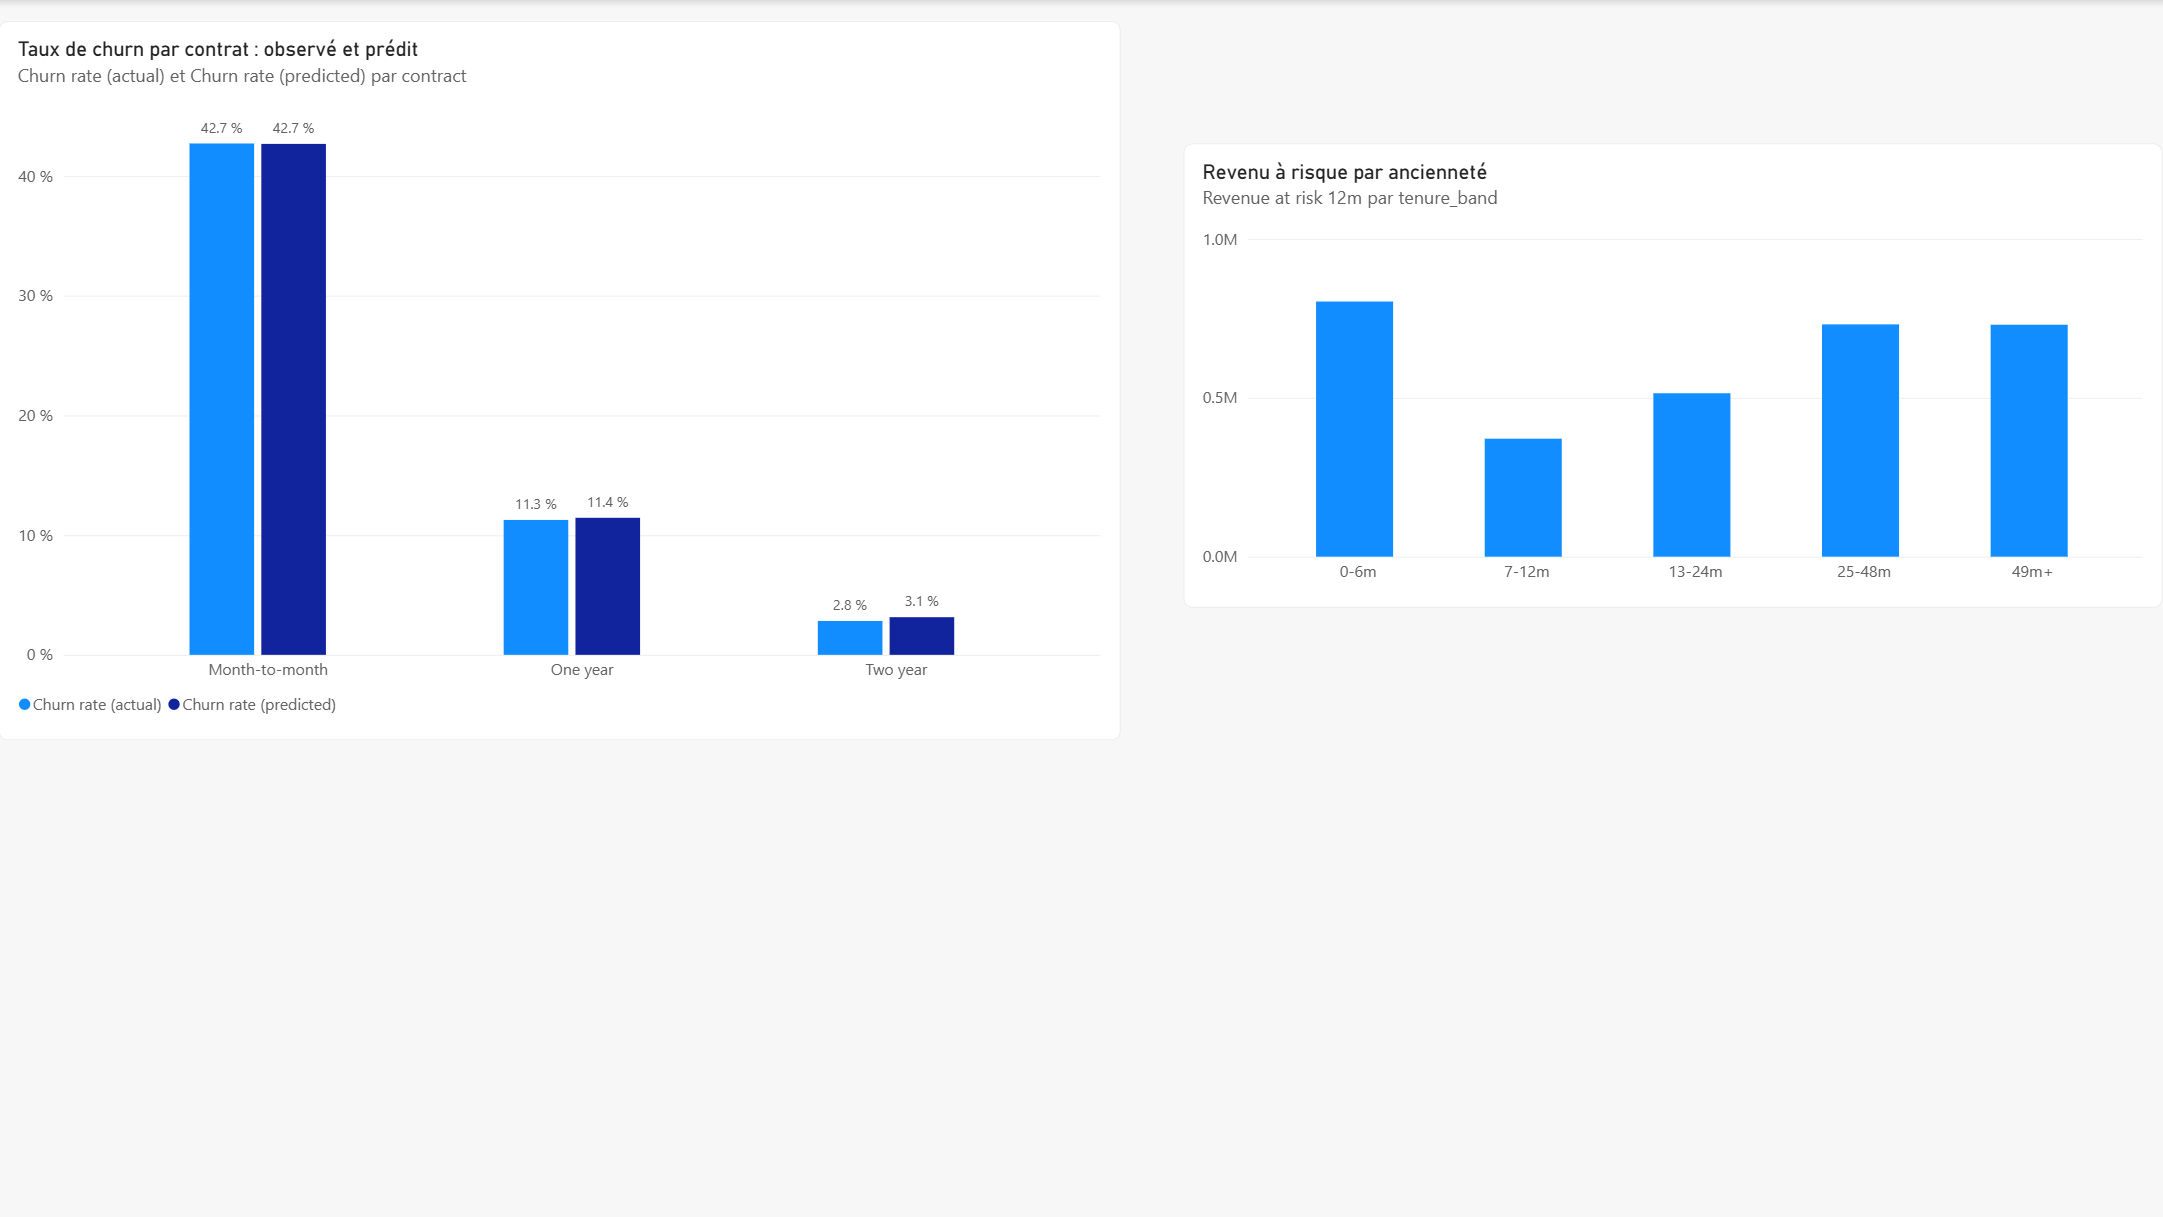

Layout of this report page (visuals, bound fields, positions):
{"tool":"powerbi","page":{"name":"Segments","canvas":[1920,1080],"ordinal":1},"visuals":[{"type":"clusteredColumnChart","title":"Taux de churn par contrat : observé et prédit","fields":{"Category":["v_customer_risk.contract"],"Y":["v_customer_risk.Churn rate (actual)","v_customer_risk.Churn rate (predicted)"]},"box":[0,18.5,995.2,638],"z":0},{"type":"columnChart","title":"Revenu à risque par ancienneté","fields":{"Category":["v_customer_risk.tenure_band"],"Y":["v_customer_risk.Revenue at risk 12m"]},"box":[1051.3,127.4,868.4,412.2],"z":1}]}

Visuals, with their boxes in screenshot pixels (x1, y1, x2, y2), scaled from the page's 1920x1080 canvas onto the 2163x1217 screenshot:
"Taux de churn par contrat : observé et prédit" clusteredColumnChart: (x1=0, y1=21, x2=1121, y2=740)
"Revenu à risque par ancienneté" columnChart: (x1=1184, y1=144, x2=2162, y2=608)
